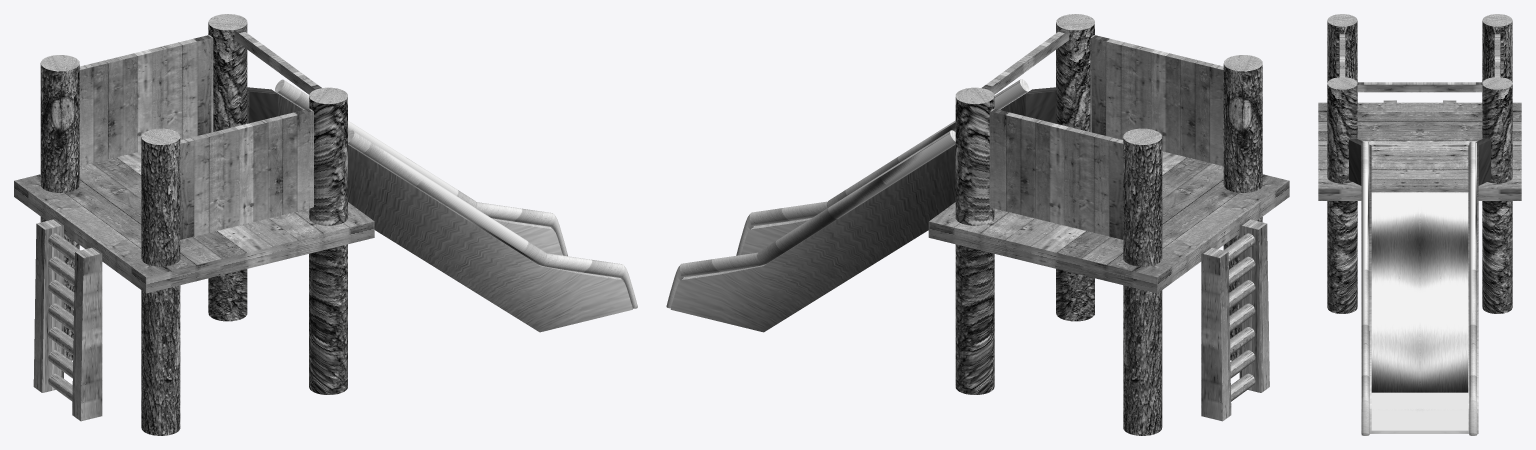
Rendered from playingmajigmajig.fbx.
The picture shows the model from 3 angles, left to right: view 1: azimuth 30°, elevation 25°; view 2: azimuth 150°, elevation 25°; view 3: azimuth 270°, elevation 25°; orthographic projection. The views are drawn at different scales.
Parts seen in each view (by area): view 1: playingmajig; view 2: playingmajig; view 3: playingmajig.
Part boxes in pixels (x1,y1,x2,y2): playingmajig: [14, 14, 637, 435]; playingmajig: [666, 14, 1289, 435]; playingmajig: [1318, 14, 1521, 435].
Size of the model in its own units: 1610 by 848 by 676.
